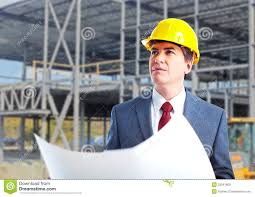Person_wearing_helmet: (143, 16, 204, 58)
